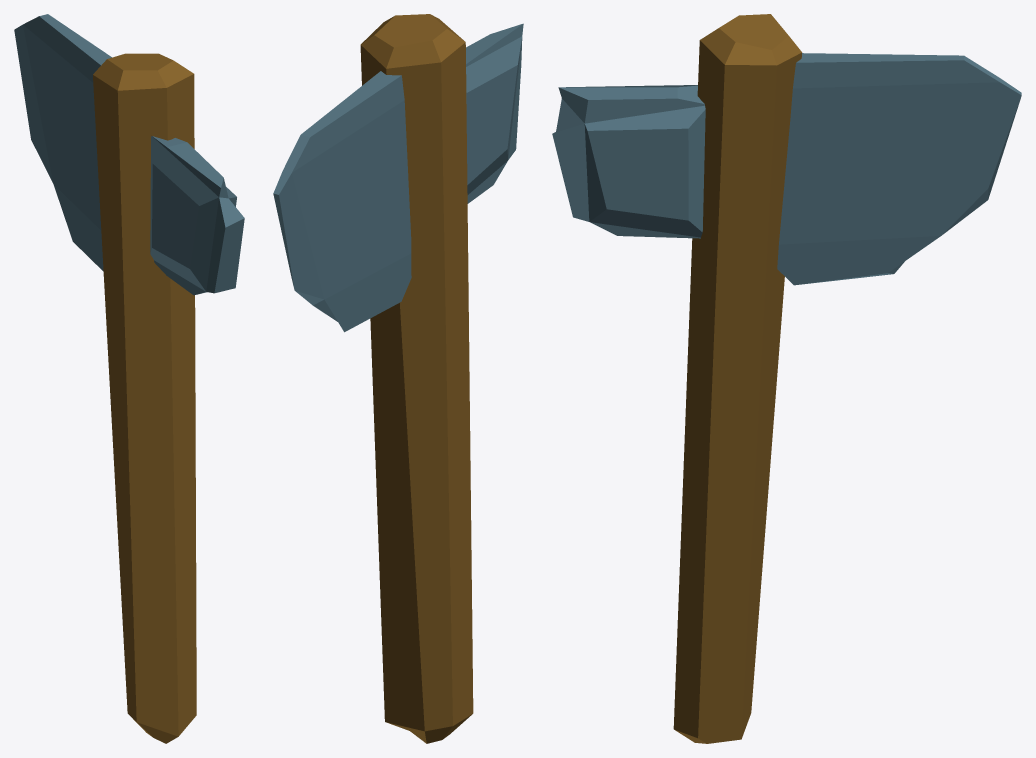
Rendered from stoneaxe1.fbx.
The picture shows the model from 3 angles, left to right: view 1: azimuth 30°, elevation 25°; view 2: azimuth 150°, elevation 25°; view 3: azimuth 270°, elevation 25°; orthographic projection. The views are drawn at different scales.
Visible parts, largest first — view 1: Cylinder, Cube; view 2: Cylinder, Cube; view 3: Cube, Cylinder.
Part boxes in pixels (bbox=[...]): Cylinder: bbox=[93, 53, 196, 743]; Cube: bbox=[14, 14, 244, 295]; Cylinder: bbox=[360, 14, 473, 743]; Cube: bbox=[273, 23, 523, 332]; Cube: bbox=[552, 53, 1021, 285]; Cylinder: bbox=[673, 14, 802, 743].
Size of the model in its own units: 49.47 by 409 by 243.
